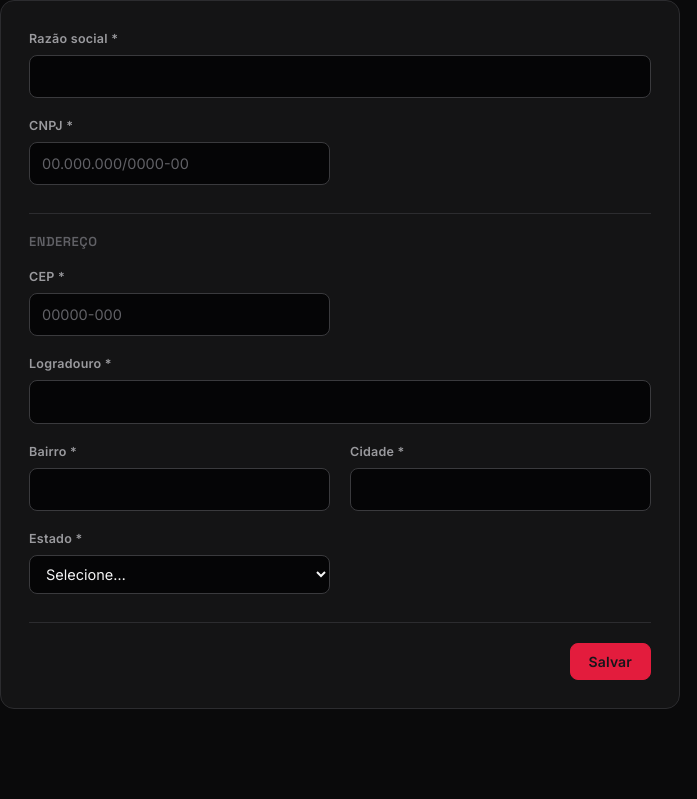
Test: DealerForm › validates the CNPJ check digits
Step 1. Type "11222333000180" into the field labelled "CNPJ *" → [180, 164], box [29,142,330,185]
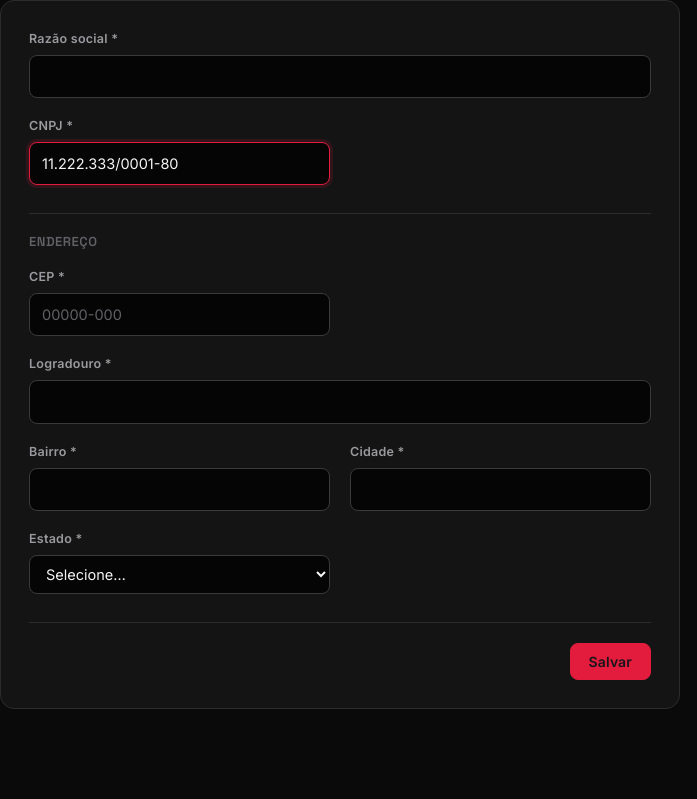
Step 2. Click the button "Salvar" → [610, 661], box [570,643,651,680]
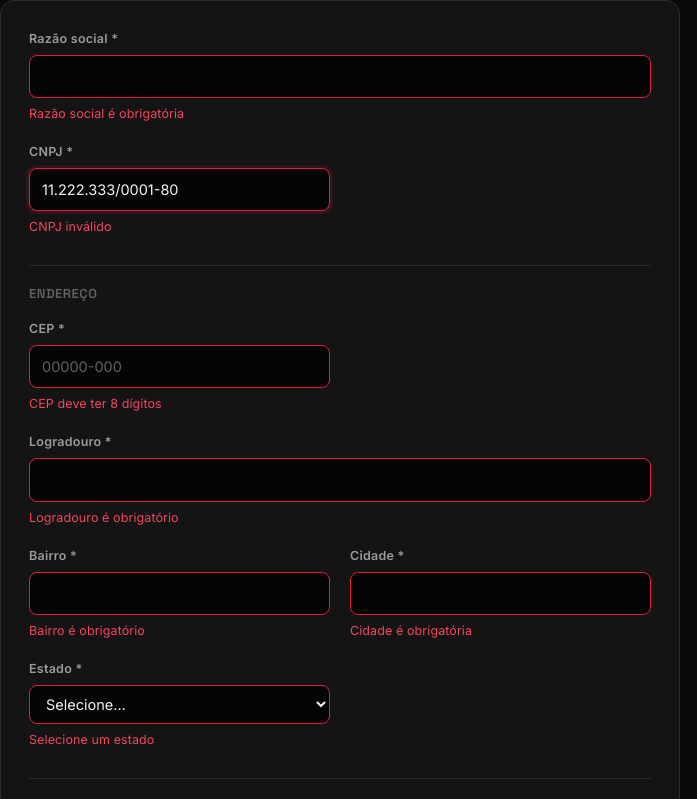
Expected: the text "CNPJ inválido" is shown, [29,219,112,234]
